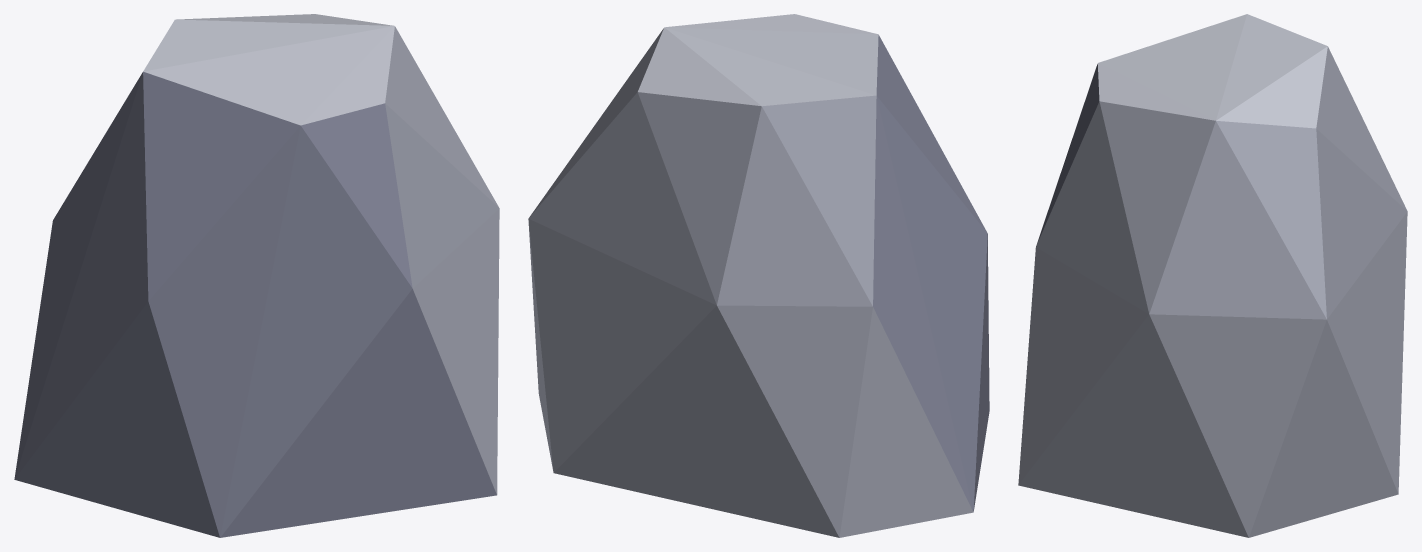
The model's file is stone_smallE.glb.
3 views of the same model, side by side, from view 1: azimuth 30°, elevation 25°; view 2: azimuth 150°, elevation 25°; view 3: azimuth 270°, elevation 25° (orthographic). The views are drawn at different scales.
Visible parts, largest first — view 1: stone_smallE; view 2: stone_smallE; view 3: stone_smallE.
Boxes of the visible parts, x1,y1,x2,y2 form: stone_smallE: [14, 14, 499, 537]; stone_smallE: [528, 14, 989, 537]; stone_smallE: [1018, 14, 1407, 537].
Size of the model in its own units: 0.3161 by 0.2575 by 0.2471.
1 material, 1 textured.
